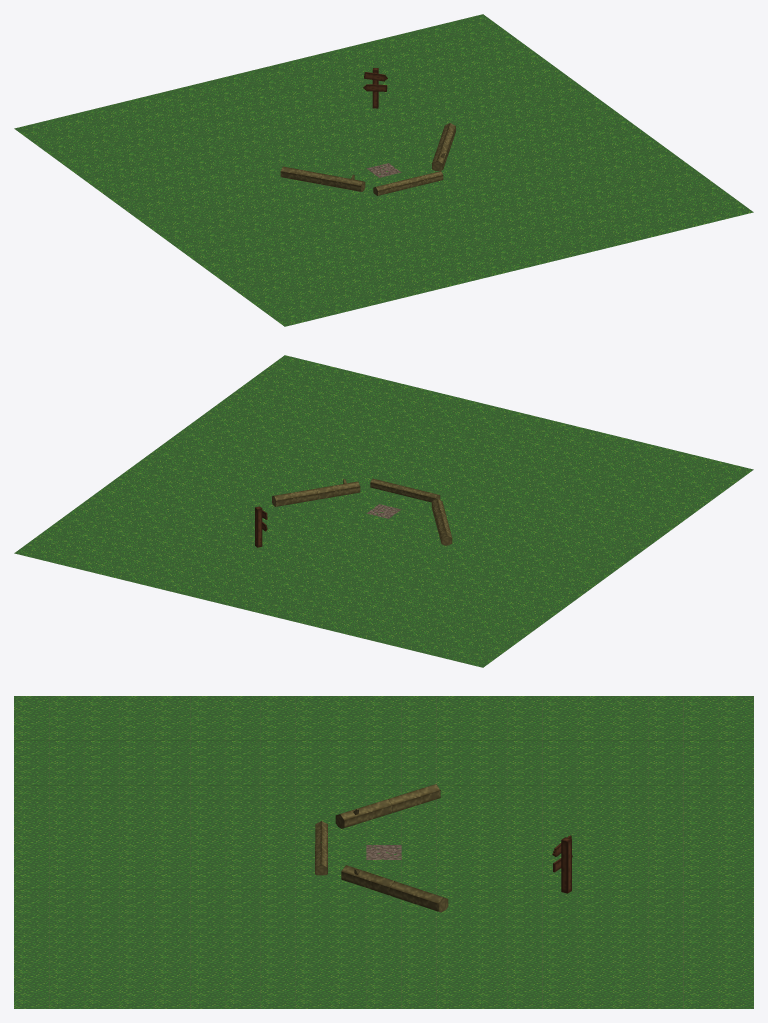
The model's file is Campement_Decor.obj.
3 renders of one model, top to bottom at view 1: azimuth 30°, elevation 25°; view 2: azimuth 150°, elevation 25°; view 3: azimuth 270°, elevation 25°, orthographic. The views are drawn at different scales.
Parts seen in each view (by area): view 1: Cube; view 2: Cube; view 3: Cube.
Boxes of the visible parts, left/top/right/bottom form: Cube: left=14, top=14, right=753, bottom=326; Cube: left=14, top=355, right=753, bottom=667; Cube: left=14, top=696, right=753, bottom=1008.
Size of the model in its own units: 21 by 1.71 by 21.
6 materials, 6 textured.
